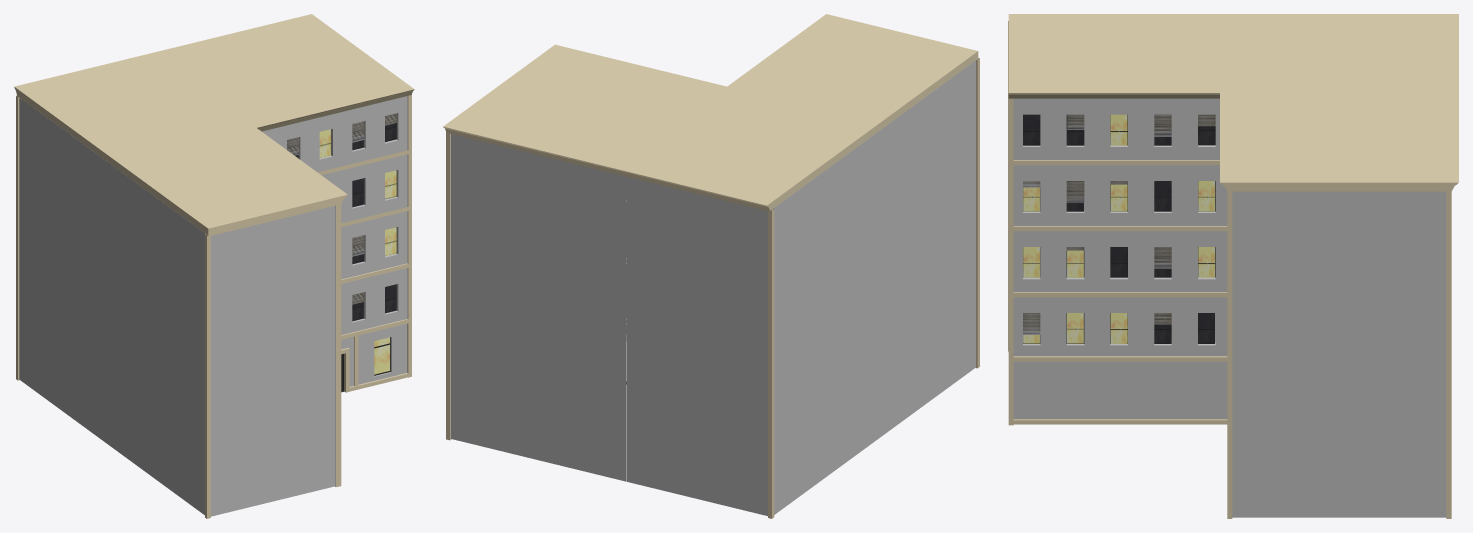
File: Bloc_025C.fbx
3 renders of one model, left to right at view 1: azimuth 30°, elevation 25°; view 2: azimuth 150°, elevation 25°; view 3: azimuth 270°, elevation 25°, orthographic. The views are drawn at different scales.
Visible parts, largest first — view 1: Bloc_25C; view 2: Bloc_25C; view 3: Bloc_25C.
Part boxes in pixels (x1,y1,x2,y2): Bloc_25C: (14,14,414,518); Bloc_25C: (443,14,979,518); Bloc_25C: (1008,14,1458,518).
Bounding box in the file's own units: 1854 × 1526 × 1650.
